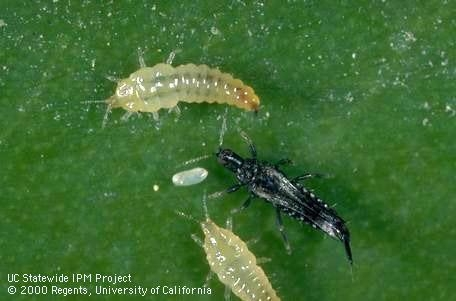Thrips: (82, 49, 269, 133), (215, 140, 366, 241), (169, 186, 290, 300)
